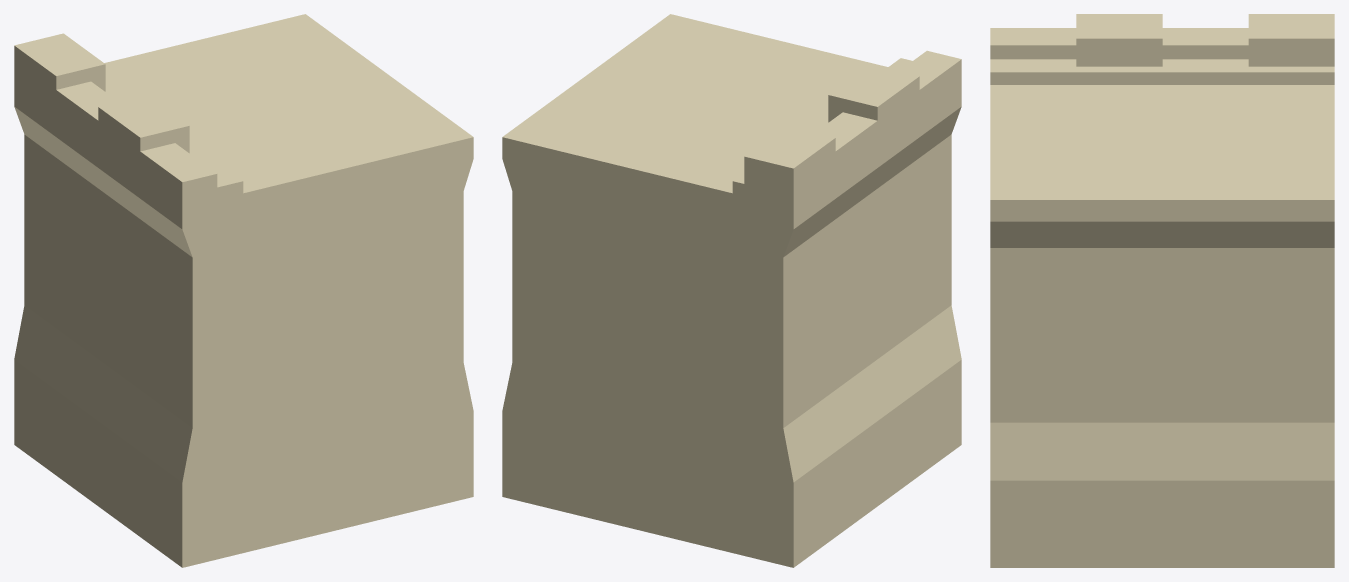
File: wallhalf.glb
3 views of the same model, side by side, from view 1: azimuth 30°, elevation 25°; view 2: azimuth 150°, elevation 25°; view 3: azimuth 270°, elevation 25° (orthographic). The views are drawn at different scales.
Visible parts, largest first — view 1: wallHalf; view 2: wallHalf; view 3: wallHalf.
Boxes of the visible parts, <box> form: wallHalf: <box>14,14,473,567</box>; wallHalf: <box>502,14,961,567</box>; wallHalf: <box>990,14,1334,567</box>.
Size of the model in its own units: 10 by 13.1 by 10.
